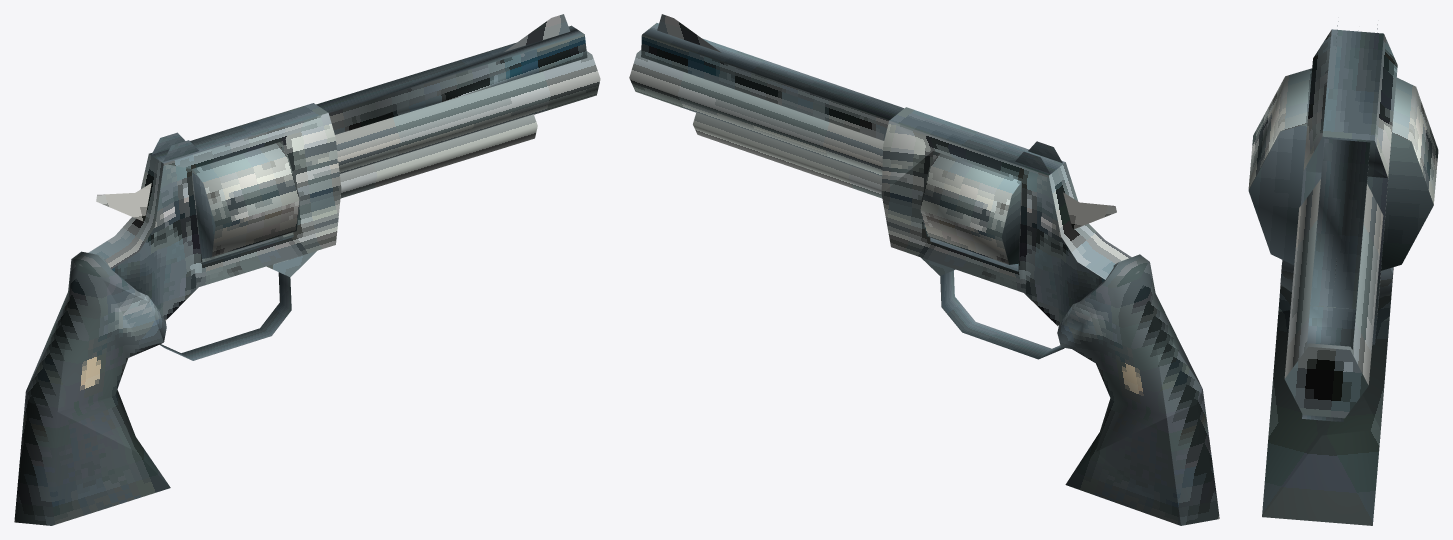
The model's file is python.fbx.
3 views of the same model, side by side, from view 1: azimuth 30°, elevation 25°; view 2: azimuth 150°, elevation 25°; view 3: azimuth 270°, elevation 25° (orthographic). The views are drawn at different scales.
Parts seen in each view (by area): view 1: python; view 2: python; view 3: python.
Part boxes in pixels (left/top/right/bottom): python: left=14, top=14, right=600, bottom=525; python: left=629, top=14, right=1219, bottom=525; python: left=1248, top=21, right=1438, bottom=525.
Size of the model in its own units: 35.97 by 22.13 by 6.28.
Materials: 1 (1 with a texture image).
